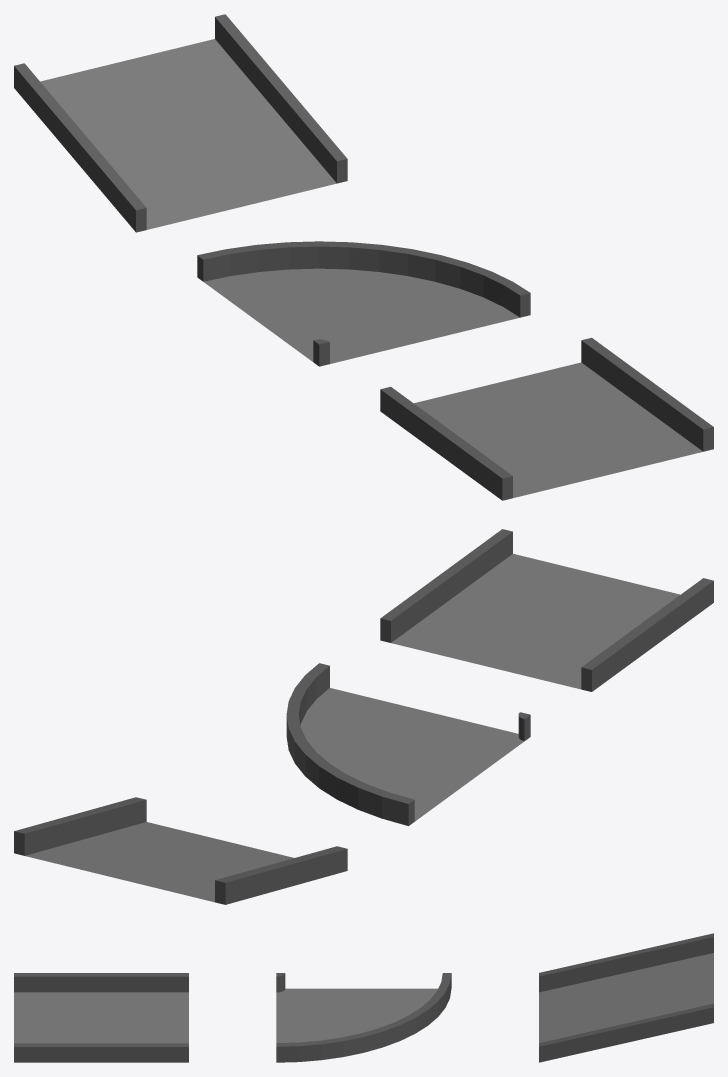
The model's file is route_basic1.glb.
The picture shows the model from 3 angles, top to bottom: view 1: azimuth 30°, elevation 25°; view 2: azimuth 150°, elevation 25°; view 3: azimuth 270°, elevation 25°; orthographic projection. The views are drawn at different scales.
Visible parts, largest first — view 1: pente-col, base-col, curva-col; view 2: base-col, curva-col, pente-col; view 3: pente-col, base-col, curva-col.
Part boxes in pixels (x1,y1,x2,y2): pente-col: [14, 14, 347, 232]; base-col: [380, 337, 713, 500]; curva-col: [197, 241, 530, 366]; base-col: [380, 529, 713, 691]; curva-col: [286, 663, 530, 825]; pente-col: [14, 797, 347, 904]; pente-col: [539, 933, 713, 1062]; base-col: [14, 973, 188, 1062]; curva-col: [276, 973, 451, 1062].
Bounding box in the file's own units: 2 × 0.7 × 8.
1 material, 1 textured.
